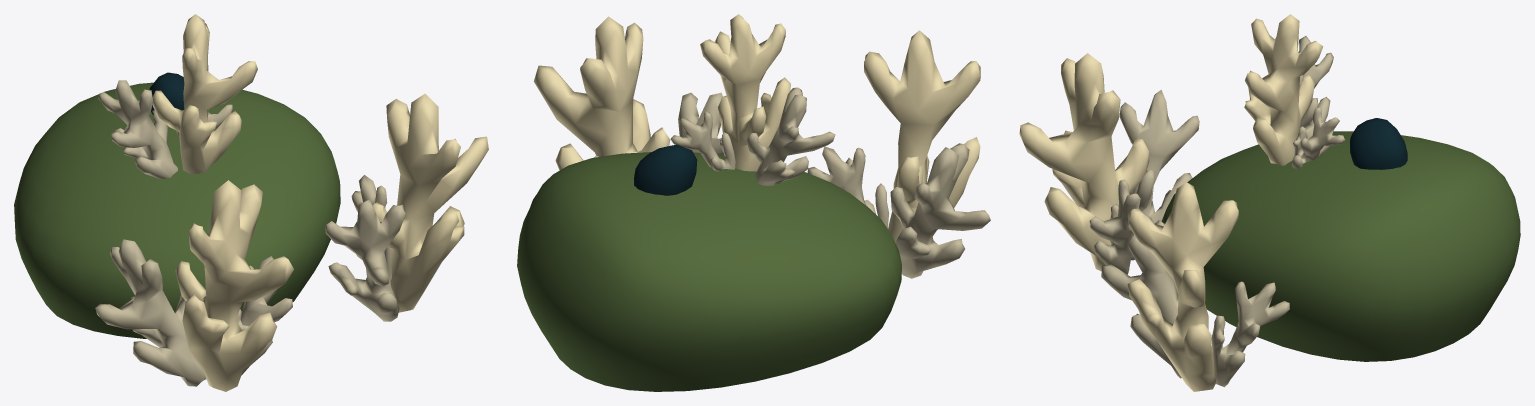
File: fillercoral_white.gltf
3 renders of one model, left to right at view 1: azimuth 30°, elevation 25°; view 2: azimuth 150°, elevation 25°; view 3: azimuth 270°, elevation 25°, orthographic. The views are drawn at different scales.
Visible parts, largest first — view 1: Rock, Coral.002, Coral.003, Coral.001, Rock 3; view 2: Rock, Coral.002, Coral.001, Coral.003, Rock 3; view 3: Rock, Coral.002, Coral.003, Coral.001, Rock 3.
Part boxes in pixels (bbox=[...]): Rock: bbox=[14, 82, 340, 338]; Coral.002: bbox=[95, 180, 293, 391]; Coral.003: bbox=[325, 93, 488, 321]; Coral.001: bbox=[98, 14, 257, 178]; Rock 3: bbox=[149, 72, 184, 114]; Rock: bbox=[517, 152, 901, 391]; Coral.002: bbox=[807, 30, 990, 278]; Coral.001: bbox=[670, 14, 835, 185]; Coral.003: bbox=[534, 16, 723, 170]; Rock 3: bbox=[634, 144, 697, 195]; Rock: bbox=[1161, 131, 1520, 361]; Coral.002: bbox=[1019, 53, 1199, 274]; Coral.003: bbox=[1101, 182, 1289, 391]; Coral.001: bbox=[1244, 14, 1345, 168]; Rock 3: bbox=[1350, 118, 1407, 169].
Size of the model in its own units: 6.37 by 4.45 by 6.8.
